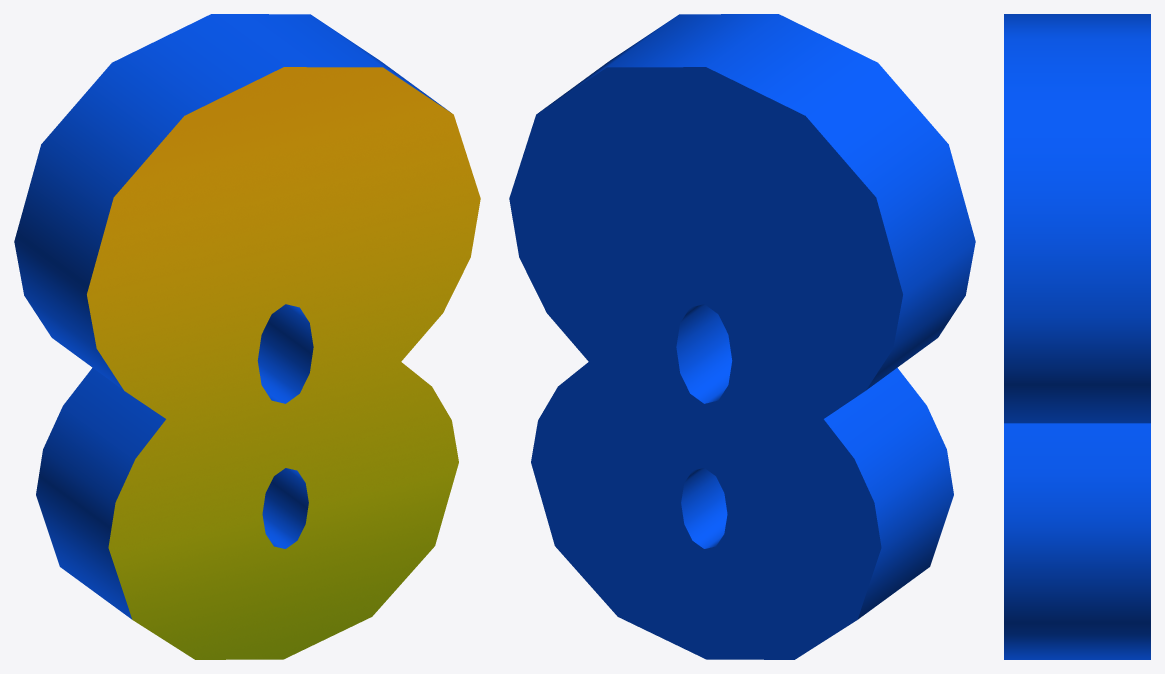
The picture shows the model from 3 angles, left to right: view 1: azimuth 30°, elevation 25°; view 2: azimuth 150°, elevation 25°; view 3: azimuth 270°, elevation 25°; orthographic projection.
Parts seen in each view (by area): view 1: 8; view 2: 8; view 3: 8.
Boxes of the visible parts, bbox=[...] form: 8: bbox=[14, 14, 480, 659]; 8: bbox=[509, 14, 975, 659]; 8: bbox=[1004, 14, 1150, 659].
Size of the model in its own units: 62.71 by 90.11 by 20.
2 materials, 1 textured.
